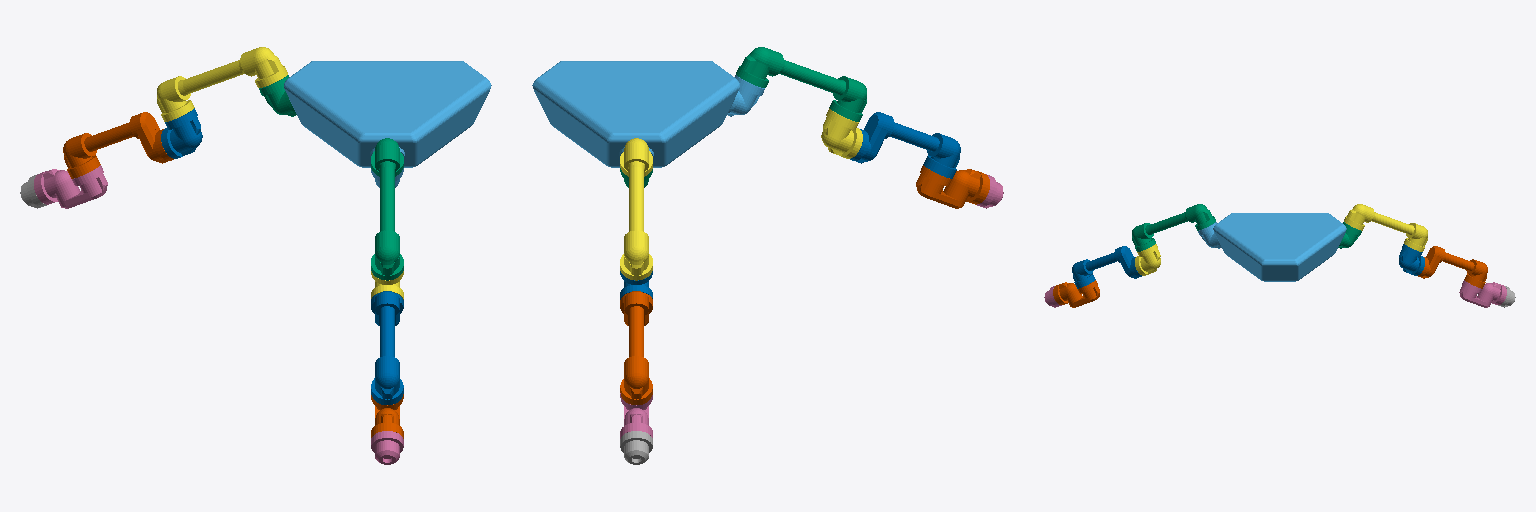
The robot description file, URDF, robot "VISPA":
<?xml version="1.0" ?>

<robot name="VISPA">

  <!-- Standard ROS(-industrial) frames -->
  <!-- inertials not needed here -->
  <link name="world"/>

  <link name="Link_0">
    <visual>
      <geometry>
        <mesh filename="mpc/crawling_vispa_model/meshes/torso.stl"/>
      </geometry>
    </visual>
    <collision>
      <geometry>
        <mesh filename="mpc/crawling_vispa_model/meshes/torso.stl"/>
      </geometry>
    </collision>
    <inertial>
      <mass value="0.627"/>
      <inertia ixx="0.00281845585208" ixy="0" ixz="0" iyy="0.00281883333333" iyz="0" izz="0.00379978918542"/>
      <origin xyz="0 0 0.0"/>
    </inertial>
  </link>
<!-- leg_a -->
  <link name="Link_1_a">
    <visual>
      <geometry>
        <mesh filename="mpc/crawling_vispa_model/meshes/link1.stl"/>
      </geometry>
    </visual>
    <collision>
      <geometry>
        <mesh filename="mpc/crawling_vispa_model/meshes/link1.stl"/>
      </geometry>impl_f
    </collision>
    <inertial>
      <mass value="2.328"/>
      <inertia ixx="0.012" ixy="0" ixz="0" iyy="0.007" iyz="0.003" izz="0.008"/>
      <origin xyz="0 -0.029 -0.043"/>
    </inertial>
  </link>

  <link name="Link_2_a">
    <visual>
      <geometry>
        <mesh filename="mpc/crawling_vispa_model/meshes/link2_0_5.stl"/>
      </geometry>
    </visual>
    <collision>
      <geometry>
        <mesh filename="mpc/crawling_vispa_model/meshes/link2_0_5.stl"/>
      </geometry>
    </collision>
    <inertial>
      <mass value="3.995"/>
      <inertia ixx="0.010" ixy="0" ixz="0" iyy="0.578" iyz="0" izz="0.574"/>
      <origin xyz="0.25 0 0.142"/>
    </inertial>
  </link>

  <link name="Link_3_a">
    <visual>
      <geometry>
        <mesh filename="mpc/crawling_vispa_model/meshes/link3.stl"/>
      </geometry>
    </visual>
    <collision>
      <geometry>
        <mesh filename="mpc/crawling_vispa_model/meshes/link3.stl"/>
      </geometry>
    </collision>
    <inertial>
      <mass value="2.328"/>
      <inertia ixx="0.012" ixy="0" ixz="0" iyy="0.008" iyz="0.003" izz="0.007"/>
      <origin xyz="0 0.043 0.029"/>
    </inertial>
  </link>

  <link name="Link_4_a">
    <visual>
      <geometry>
        <mesh filename="mpc/crawling_vispa_model/meshes/link4.stl"/>
      </geometry>
    </visual>
    <collision>
      <geometry>
        <mesh filename="mpc/crawling_vispa_model/meshes/link4.stl"/>
      </geometry>
    </collision>
    <inertial>
      <mass value="3.157"/>
      <inertia ixx="0.199" ixy="0" ixz="0" iyy="0.193" iyz="0.01" izz="0.01"/>
      <origin xyz="0 -0.043 -0.210"/>
    </inertial>
  </link>

  <link name="Link_5_a">
    <visual>
      <geometry>
        <mesh filename="mpc/crawling_vispa_model/meshes/link5.stl"/>
      </geometry>
    </visual>
    <collision>
      <geometry>
        <mesh filename="mpc/crawling_vispa_model/meshes/link5.stl"/>
      </geometry>
    </collision>
    <inertial>
      <mass value="2.695"/>
      <inertia ixx="0.029" ixy="0" ixz="0" iyy="0.006" iyz="-0.001" izz="0.027"/>
      <origin xyz="0 0.125 -0.007"/>
    </inertial>
  </link>

  <link name="Link_6_a">
    <visual>
      <geometry>
        <mesh filename="mpc/crawling_vispa_model/meshes/link6.stl"/>
      </geometry>
    </visual>
    <collision>
      <geometry>
        <mesh filename="mpc/crawling_vispa_model/meshes/link6.stl"/>
      </geometry>
    </collision>
    <inertial>
      <mass value="0.924"/>
      <inertia ixx="0.002" ixy="0" ixz="0" iyy="0.002" iyz="0" izz="0.001"/>
      <origin xyz="0 0 0.0"/>
    </inertial>
  </link>

  <link name="tool_a"/>

<!-- leg_b -->
  <link name="Link_1_b">
    <visual>
      <geometry>
        <mesh filename="mpc/crawling_vispa_model/meshes/link1.stl"/>
      </geometry>
    </visual>
    <collision>
      <geometry>
        <mesh filename="mpc/crawling_vispa_model/meshes/link1.stl"/>
      </geometry>
    </collision>
    <inertial>
      <mass value="2.328"/>
      <inertia ixx="0.012" ixy="0" ixz="0" iyy="0.007" iyz="0.003" izz="0.008"/>
      <origin xyz="0 -0.029 -0.043"/>
    </inertial>
  </link>

  <link name="Link_2_b">
    <visual>
      <geometry>
        <mesh filename="mpc/crawling_vispa_model/meshes/link2_0_5.stl"/>
      </geometry>
    </visual>
    <collision>
      <geometry>
        <mesh filename="mpc/crawling_vispa_model/meshes/link2_0_5.stl"/>
      </geometry>
    </collision>
    <inertial>
      <mass value="3.995"/>
      <inertia ixx="0.010" ixy="0" ixz="0" iyy="0.578" iyz="0" izz="0.574"/>
      <origin xyz="0.25 0 0.142"/>
    </inertial>
  </link>

  <link name="Link_3_b">
    <visual>
      <geometry>
        <mesh filename="mpc/crawling_vispa_model/meshes/link3.stl"/>
      </geometry>
    </visual>
    <collision>
      <geometry>
        <mesh filename="mpc/crawling_vispa_model/meshes/link3.stl"/>
      </geometry>
    </collision>
    <inertial>
      <mass value="2.328"/>
      <inertia ixx="0.012" ixy="0" ixz="0" iyy="0.008" iyz="0.003" izz="0.007"/>
      <origin xyz="0 0.043 0.029"/>
    </inertial>
  </link>

  <link name="Link_4_b">
    <visual>
      <geometry>
        <mesh filename="mpc/crawling_vispa_model/meshes/link4.stl"/>
      </geometry>
    </visual>
    <collision>
      <geometry>
        <mesh filename="mpc/crawling_vispa_model/meshes/link4.stl"/>
      </geometry>
    </collision>
    <inertial>
      <mass value="3.157"/>
      <inertia ixx="0.199" ixy="0" ixz="0" iyy="0.193" iyz="0.01" izz="0.01"/>
      <origin xyz="0 -0.043 -0.210"/>
    </inertial>
  </link>

  <link name="Link_5_b">
    <visual>
      <geometry>
        <mesh filename="mpc/crawling_vispa_model/meshes/link5.stl"/>
      </geometry>
    </visual>
    <collision>
      <geometry>
        <mesh filename="mpc/crawling_vispa_model/meshes/link5.stl"/>
      </geometry>
    </collision>
    <inertial>
      <mass value="2.695"/>
      <inertia ixx="0.029" ixy="0" ixz="0" iyy="0.006" iyz="-0.001" izz="0.027"/>
      <origin xyz="0 0.125 -0.007"/>
    </inertial>
  </link>

  <link name="Link_6_b">
    <visual>
      <geometry>
        <mesh filename="mpc/crawling_vispa_model/meshes/link6.stl"/>
      </geometry>
    </visual>
    <collision>
      <geometry>
        <mesh filename="mpc/crawling_vispa_model/meshes/link6.stl"/>
      </geometry>
    </collision>
    <inertial>
      <mass value="0.924"/>
      <inertia ixx="0.002" ixy="0" ixz="0" iyy="0.002" iyz="0" izz="0.001"/>
      <origin xyz="0 0 0.0"/>
    </inertial>
  </link>

  <link name="tool_b"/>

<!-- joint torso -->
  <joint name="world-link0" type="fixed">
    <parent link="world"/>
    <child link="Link_0"/>
    <!-- <origin xyz="0 0 0" rpy="0 0 ${2*C_1_DEGREE}"/> -->
  </joint>

<!-- leg_a -->
  <joint name="Joint_1_a" type="revolute">
    <parent link="Link_0"/>
    <child link="Link_1_a"/>
    <axis xyz="0 0 1"/>
    <limit effort="50" lower="-3.14149265359" upper="3.14149265359" velocity="0.09395689"/>
    <origin xyz="-0.240  0.41469 -0.064498" rpy="-2.0944 0 0.5236"/>
  </joint>

  <joint name="Joint_2_a" type="revolute">
    <parent link="Link_1_a"/>
    <child link="Link_2_a"/>
    <axis xyz="0 0 1"/>
    <limit effort="50" lower="-3.14149265359" upper="3.14149265359" velocity="0.09395689"/>
    <origin xyz="0 0 0" rpy="1.57079632679 -1.57079632679 0"/>
  </joint>

  <joint name="Joint_3_a" type="revolute">
    <parent link="Link_2_a"/>
    <child link="Link_3_a"/>
    <axis xyz="0 0 1"/>
    <limit effort="50" lower="-3.14149265359" upper="3.14149265359" velocity="0.09395689"/>
    <origin xyz="0.5 0 0" rpy="0 0 -1.57079632679"/>
  </joint>

  <joint name="Joint_4_a" type="revolute">
    <parent link="Link_3_a"/>
    <child link="Link_4_a"/>
    <axis xyz="0 0 1"/>
    <limit effort="50" lower="-3.14149265359" upper="3.14149265359" velocity="0.09395689"/>
    <origin xyz="0 0.65 0" rpy="-1.57079632679 0 0"/>
  </joint>

  <joint name="Joint_5_a" type="revolute">
    <parent link="Link_4_a"/>
    <child link="Link_5_a"/>
    <axis xyz="0 0 1"/>
    <limit effort="50" lower="-3.14149265359" upper="3.14149265359" velocity="0.09395689"/>
    <origin xyz="0 0 -0.1" rpy="1.57079632679 0 0"/>
  </joint>

  <joint name="Joint_6_a" type="revolute">
    <parent link="Link_5_a"/>
    <child link="Link_6_a"/>
    <axis xyz="0 0 1"/>
    <limit effort="50" lower="-3.14149265359" upper="3.14149265359" velocity="0.09395689"/>
    <origin xyz="0 0.325 0" rpy="-1.57079632679 0 0"/>
  </joint>
  <joint name="joint_6-tool_a" type="fixed">
    <origin rpy="0 0 0" xyz="0 0 0"/>
    <parent link="Link_6_a"/>
    <child link="tool_a"/>
  </joint>

<!-- leg_b -->
  <joint name="Joint_1_b" type="revolute">
    <parent link="Link_0"/>
    <child link="Link_1_b"/>
    <axis xyz="0 0 1"/>
    <limit effort="50" lower="-3.14149265359" upper="3.14149265359" velocity="0.09395689"/>
    <origin xyz="-0.240  -0.41469 -0.064498" rpy="1.047197551 3.14149265359 -0.5236"/>
  </joint>

  <joint name="Joint_2_b" type="revolute">
    <parent link="Link_1_b"/>
    <child link="Link_2_b"/>
    <axis xyz="0 0 1"/>
    <limit effort="50" lower="-3.14149265359" upper="3.14149265359" velocity="0.09395689"/>
    <origin xyz="0 0 0" rpy="1.57079632679 -1.57079632679 0"/>
  </joint>

  <joint name="Joint_3_b" type="revolute">
    <parent link="Link_2_b"/>
    <child link="Link_3_b"/>
    <axis xyz="0 0 1"/>
    <limit effort="50" lower="-3.14149265359" upper="3.14149265359" velocity="0.09395689"/>
    <origin xyz="0.5 0 0" rpy="0 0 -1.57079632679"/>
  </joint>

  <joint name="Joint_4_b" type="revolute">
    <parent link="Link_3_b"/>
    <child link="Link_4_b"/>
    <axis xyz="0 0 1"/>
    <limit effort="50" lower="-3.14149265359" upper="3.14149265359" velocity="0.09395689"/>
    <origin xyz="0 0.65 0" rpy="-1.57079632679 0 0"/>
  </joint>

  <joint name="Joint_5_b" type="revolute">
    <parent link="Link_4_b"/>
    <child link="Link_5_b"/>
    <axis xyz="0 0 1"/>
    <limit effort="50" lower="-3.14149265359" upper="3.14149265359" velocity="0.09395689"/>
    <origin xyz="0 0 -0.1" rpy="1.57079632679 0 0"/>
  </joint>

  <joint name="Joint_6_b" type="revolute">
    <parent link="Link_5_b"/>
    <child link="Link_6_b"/>
    <axis xyz="0 0 1"/>
    <limit effort="50" lower="-3.14149265359" upper="3.14149265359" velocity="0.09395689"/>
    <origin xyz="0 0.325 0" rpy="-1.57079632679 0 0"/>
  </joint>
  <joint name="joint_6-tool_b" type="fixed">
    <origin rpy="0 0 0" xyz="0 0 0"/>
    <parent link="Link_6_b"/>
    <child link="tool_b"/>
  </joint>

</robot>

--- Facts derived from the render (not from the file) ---
3 views of the same robot in one strip: view 1: azimuth 30°, elevation 25°; view 2: azimuth 150°, elevation 25°; view 3: azimuth 270°, elevation 25° (orthographic).
Robot: VISPA — 16 links, 15 joints (12 revolute, 3 fixed); root link world; default pose: all joints at 0.
Visible links, largest first — view 1: Link_0, Link_2_a, Link_2_b, Link_4_a, Link_4_b, Link_5_a, Link_3_a, Link_6_b, Link_5_b, Link_1_a; view 2: Link_0, Link_2_b, Link_2_a, Link_4_b, Link_4_a, Link_5_b, Link_3_b, Link_6_a, Link_5_a, Link_1_b; view 3: Link_0, Link_2_a, Link_2_b, Link_4_b, Link_4_a, Link_5_a, Link_5_b, Link_3_a, Link_3_b.
Boxes of the visible links, x1,y1,x2,y2 form: Link_0: (284,61,491,167); Link_2_a: (157,47,287,121); Link_2_b: (371,138,403,280); Link_4_a: (63,112,173,178); Link_4_b: (371,291,403,404); Link_5_a: (34,165,107,208); Link_3_a: (161,108,202,158); Link_6_b: (371,431,403,464); Link_5_b: (371,394,403,438); Link_1_a: (259,75,296,116); Link_0: (532,61,739,167); Link_2_b: (736,47,866,121); Link_2_a: (620,138,652,280); Link_4_b: (850,112,960,178); Link_4_a: (620,291,652,404); Link_5_b: (916,165,989,208); Link_3_b: (821,108,862,158); Link_6_a: (620,431,652,464); Link_5_a: (620,393,652,438); Link_1_b: (727,75,764,116); Link_0: (1213,213,1346,281); Link_2_a: (1344,204,1427,251); Link_2_b: (1132,204,1215,251); Link_4_b: (1072,246,1141,288); Link_4_a: (1418,246,1487,288); Link_5_a: (1459,280,1506,307); Link_5_b: (1053,280,1099,307); Link_3_a: (1399,244,1424,275); Link_3_b: (1135,244,1160,275).
Size in the robot's own frame: 1.29 by 2.94 by 0.9479 metres.
Meshes: 7 distinct files referenced, 13 mesh visuals loaded (7 binary STL).